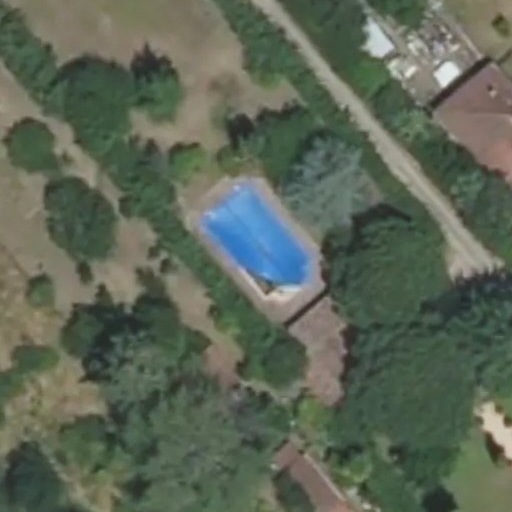pool: (207, 221, 313, 272)
